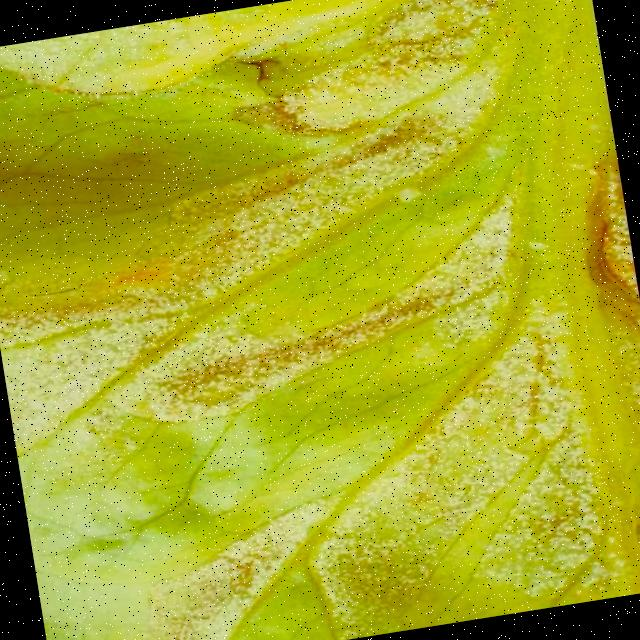Powdery_mildew_on_lettuce: (0, 0, 579, 445)
